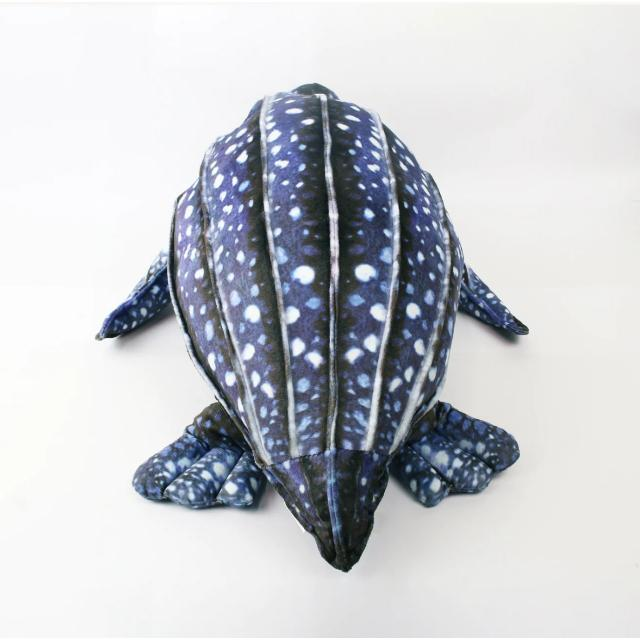turtle: (94, 78, 528, 575)
